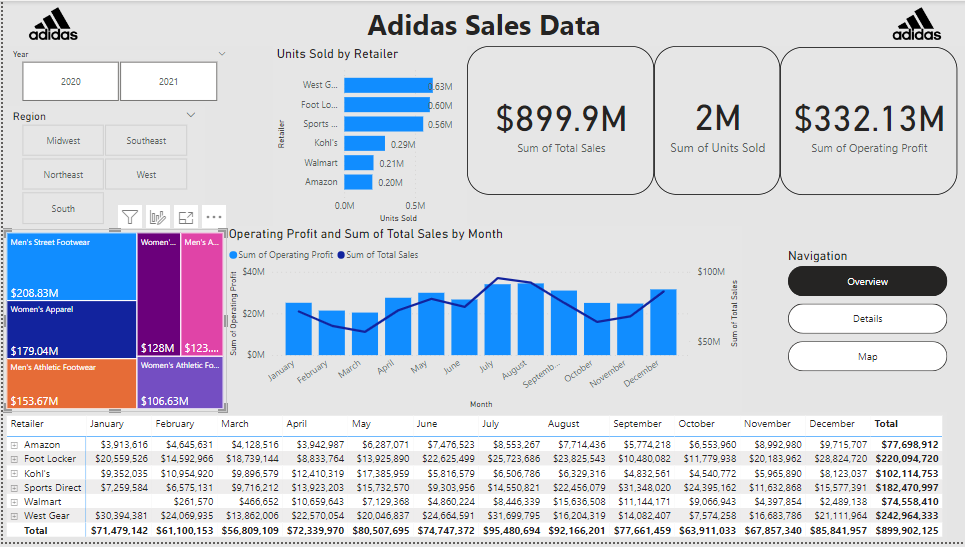

Layout of this report page (visuals, bound fields, positions):
{"tool":"powerbi","page":{"name":"Overview","canvas":[1280,720],"ordinal":0},"visuals":[{"type":"clusteredBarChart","title":"Units Sold by Retailer","fields":{"Category":["Data Sales Adidas.Retailer"],"Y":["Sum(Data Sales Adidas.Units Sold)"]},"box":[359.3,59.9,258.2,239.6],"z":0},{"type":"pivotTable","fields":{"Values":["Sum(Data Sales Adidas.Total Sales)"],"Rows":["Data Sales Adidas.Retailer","Data Sales Adidas.Product"],"Columns":["Data Sales Adidas.Invoice Date.Variation.Date Hierarchy.Month"]},"box":[0,547,1256.3,173],"z":1000},{"type":"slicer","fields":{"Values":["Data Sales Adidas.Invoice Date.Variation.Date Hierarchy.Year"]},"box":[0,59.9,308.8,79.9],"z":2000},{"type":"card","fields":{"Values":["Sum(Data Sales Adidas.Total Sales)"]},"box":[617.5,59.9,248.9,198.3],"z":3000},{"type":"card","fields":{"Values":["Sum(Data Sales Adidas.Units Sold)"]},"box":[866.4,59.9,167.7,198.3],"z":4000},{"type":"card","fields":{"Values":["Sum(Data Sales Adidas.Operating Profit)"]},"box":[1034.1,61.2,235.6,197],"z":5000},{"type":"lineStackedColumnComboChart","title":"Operating Profit and Sum of Total Sales by Month","fields":{"Category":["Data Sales Adidas.Invoice Date.Variation.Date Hierarchy.Month"],"Y2":["Sum(Data Sales Adidas.Total Sales)"],"Y":["Sum(Data Sales Adidas.Operating Profit)"]},"box":[295.5,299.4,688.1,247.5],"z":6000},{"type":"slicer","fields":{"Values":["Data Sales Adidas.Region"]},"box":[0,139.7,268.8,163.7],"z":7000},{"type":"treemap","fields":{"Group":["Data Sales Adidas.Product"],"Values":["Sum(Data Sales Adidas.Total Sales)"]},"box":[0,303.4,298.1,243.5],"z":8000},{"type":"pageNavigator","title":"Navigation","box":[1044.4,329.2,212.5,166.7],"z":9000},{"type":"textbox","box":[0,0,1280.3,59.9],"z":10000},{"type":"image","box":[0,0,134.4,59.9],"z":11000},{"type":"image","box":[1151.2,0,129.1,59.9],"z":12000}]}

Visuals, with their boxes in screenshot pixels (x1, y1, x2, y2), scaled from the page's 1280x720 canvas onto the 965x547 screenshot:
"Units Sold by Retailer" clusteredBarChart: 271 46 466 228
pivotTable - Sum(Data Sales Adidas.Total Sales) x Data Sales Adidas.Retailer: 0 416 947 546
slicer - Data Sales Adidas.Invoice Date.Variation.Date Hierarchy.Year: 0 46 233 106
card - Sum(Data Sales Adidas.Total Sales): 466 46 653 196
card - Sum(Data Sales Adidas.Units Sold): 653 46 780 196
card - Sum(Data Sales Adidas.Operating Profit): 780 46 957 196
"Operating Profit and Sum of Total Sales by Month" lineStackedColumnComboChart: 223 227 742 415
slicer - Data Sales Adidas.Region: 0 106 203 230
treemap - Data Sales Adidas.Product x Sum(Data Sales Adidas.Total Sales): 0 230 225 415
"Navigation" pageNavigator: 787 250 948 377
textbox: 0 0 964 46
image: 0 0 101 46
image: 868 0 964 46
